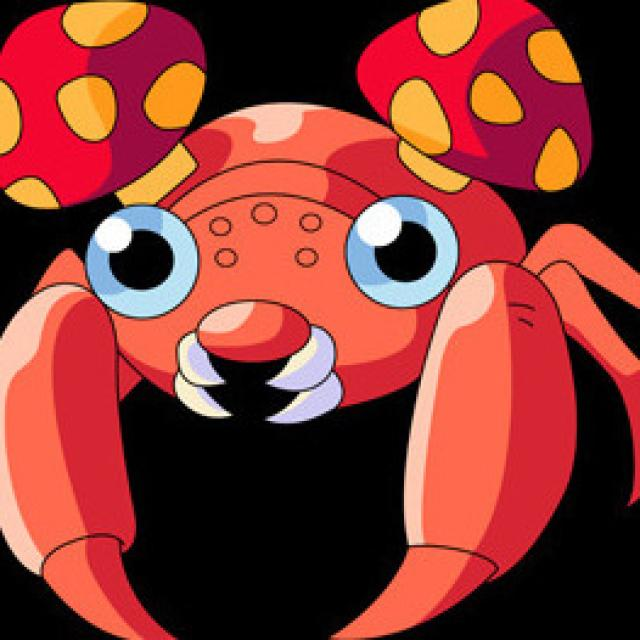Paras: (0, 0, 588, 568)
